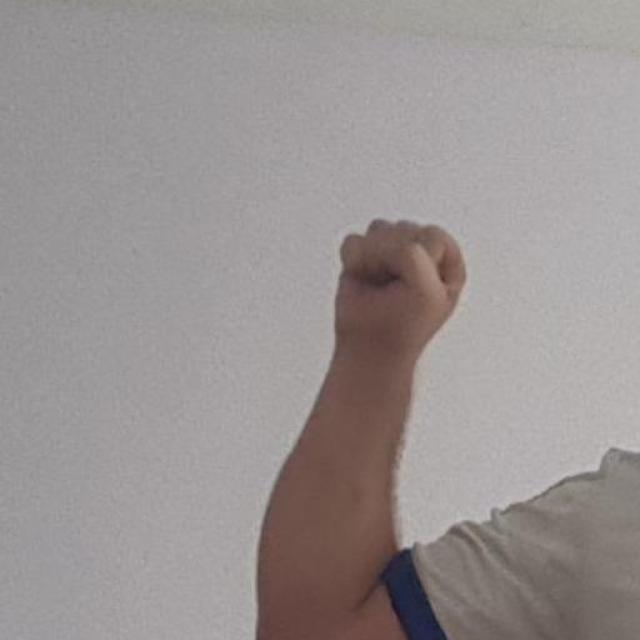hand: (332, 215, 466, 363)
